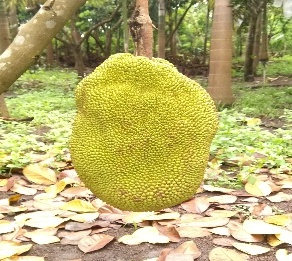Mit: (69, 53, 219, 214)
